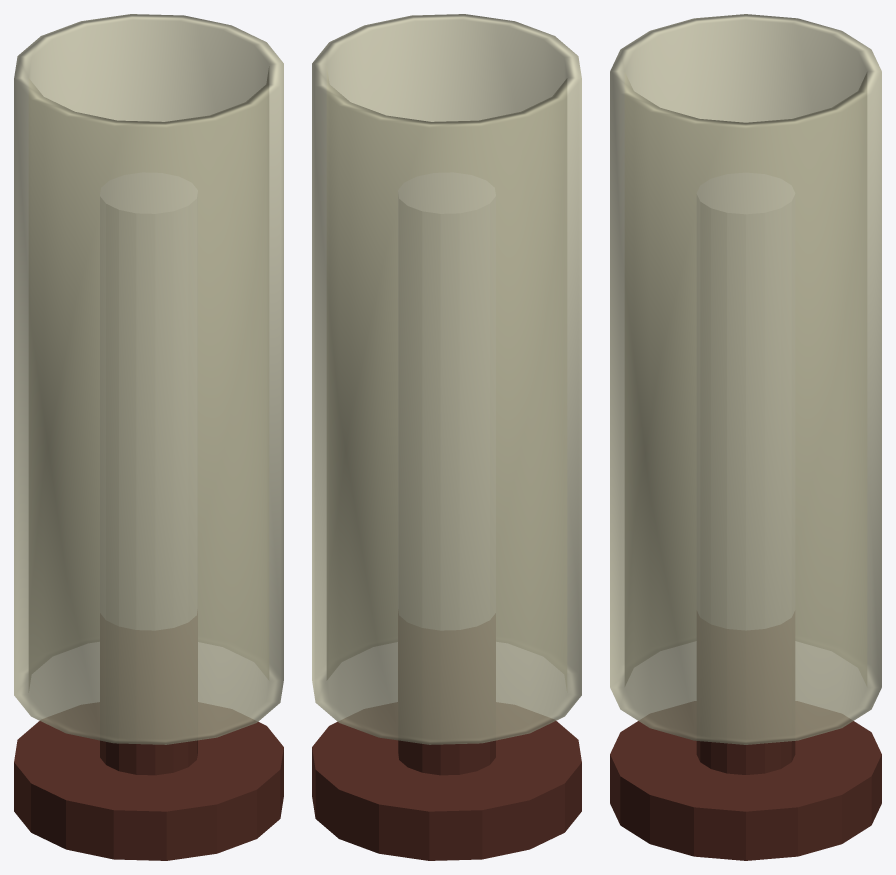
The model's file is lamp.glb.
3 renders of one model, left to right at view 1: azimuth 30°, elevation 25°; view 2: azimuth 150°, elevation 25°; view 3: azimuth 270°, elevation 25°, orthographic.
Visible parts, largest first — view 1: Cylinder.001; view 2: Cylinder.001; view 3: Cylinder.001.
Boxes of the visible parts, left/top/right/bottom form: Cylinder.001: left=14, top=14, right=283, bottom=860; Cylinder.001: left=312, top=14, right=581, bottom=860; Cylinder.001: left=610, top=14, right=881, bottom=860.
Size of the model in its own units: 0.8 by 2.38 by 0.8.
